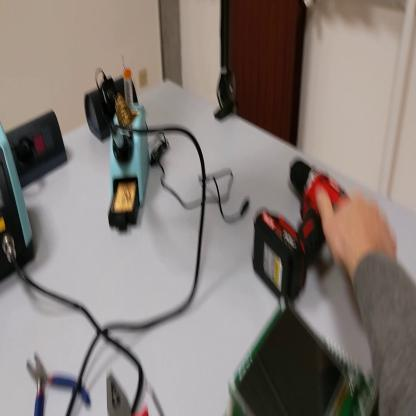electric screwdriver: (255, 162, 366, 319)
hand: (313, 180, 399, 275)
low voltage board: (228, 294, 380, 416)
pliers: (23, 349, 92, 416), (102, 370, 151, 416)
socket: (8, 109, 68, 188), (80, 72, 141, 144)
welder base: (107, 70, 151, 234)
welder probe tip: (102, 108, 128, 158)
welder station: (1, 129, 34, 283)
